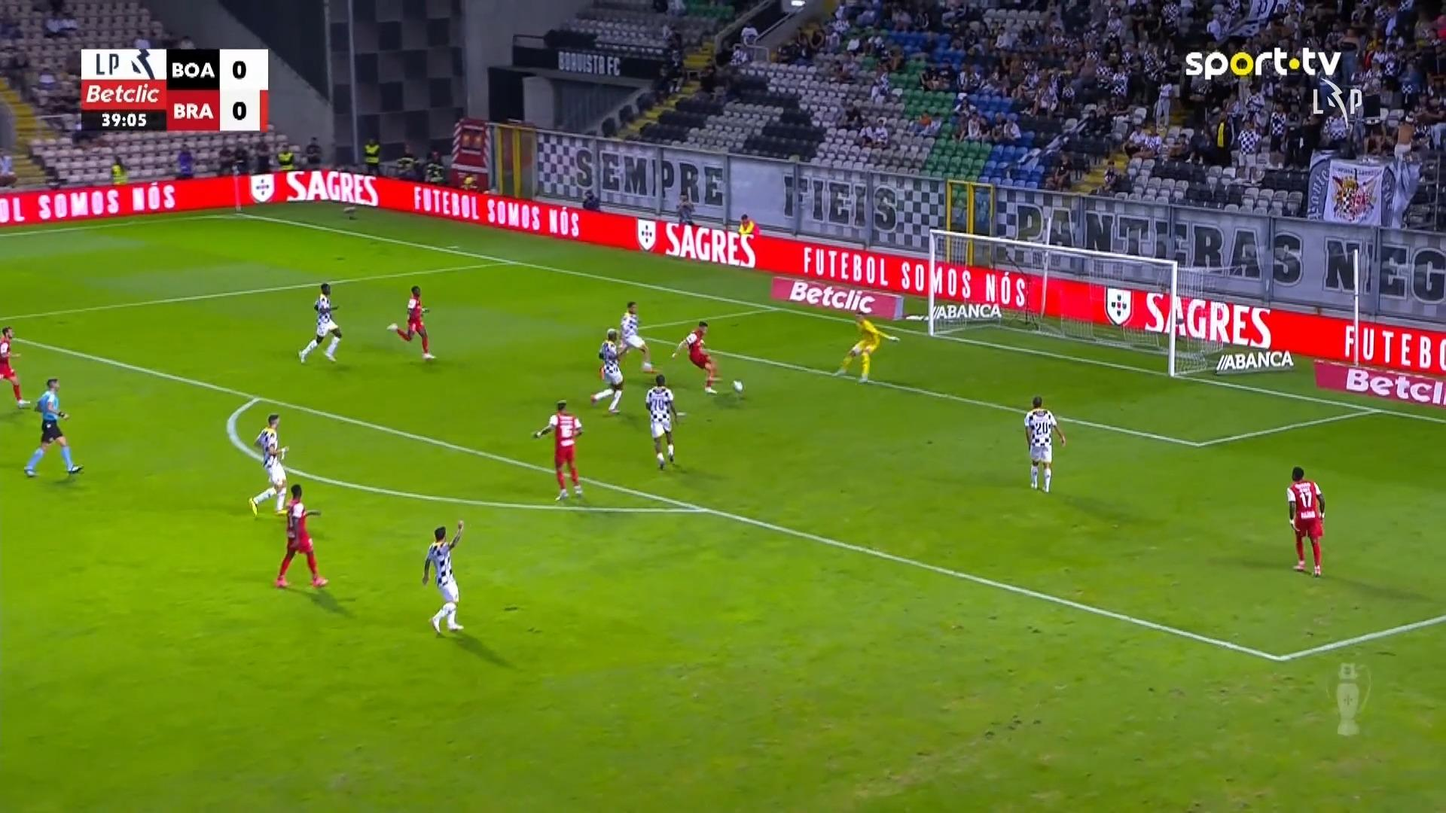ball: (732, 380, 743, 391)
goalkeeper: (832, 309, 899, 382)
player: (274, 483, 328, 589), (420, 519, 465, 637), (532, 399, 584, 501), (1286, 465, 1326, 577), (247, 413, 290, 516), (1023, 395, 1066, 492), (644, 373, 685, 470), (386, 284, 436, 360), (670, 320, 721, 394), (297, 282, 342, 364), (589, 327, 627, 414), (616, 300, 654, 373), (0, 325, 32, 408)
referee: (23, 376, 84, 477)
